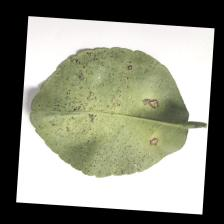canker: (42, 62, 99, 134)
